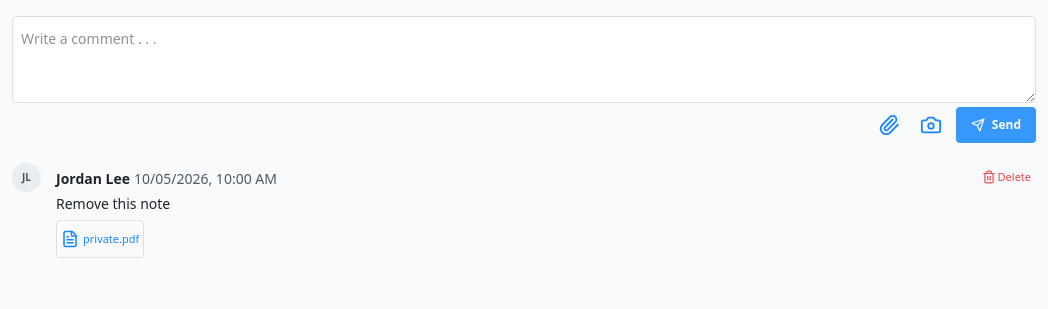
Scenario: WorkOrderActivity › keeps a deleted comment as a tombstone and hides its actions and attachments
What coordinates should you click on to do the following:
click the button with aria-label "Delete comment"
I would click on:
 (1006, 177)
Its box is 977,163 -> 1036,191.
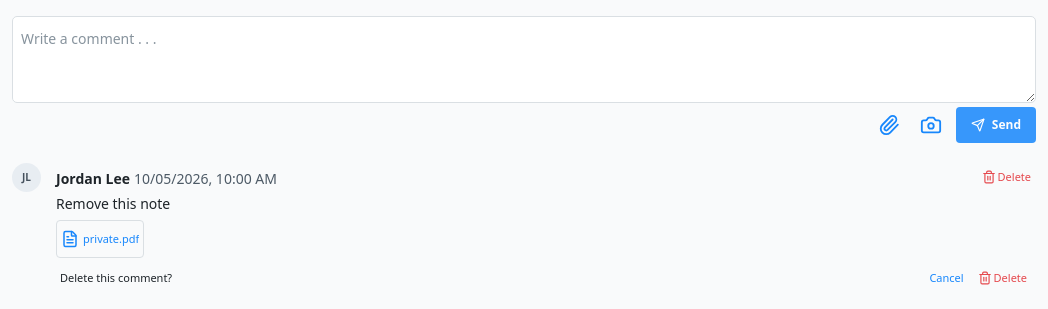
Now the element named "Confirm comment deletion" shows "Delete this comment?", box 60,270 -> 172,285
What coordinates should you click on to do the following:
click the button "Delete" in the row of "Delete this comment?"
I would click on:
 (1002, 278)
Its box is 973,264 -> 1032,292.
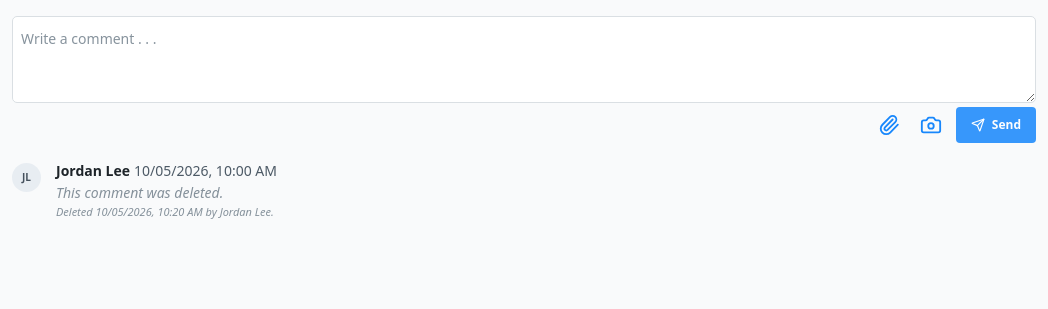
Now the text "This comment was deleted." is shown, box 56,183 -> 223,202
Now the text "Deleted 10/05/2026, 10:20 AM by Jordan Lee." is shown, box 56,204 -> 274,219
Now the text "Remove this note" is gone
